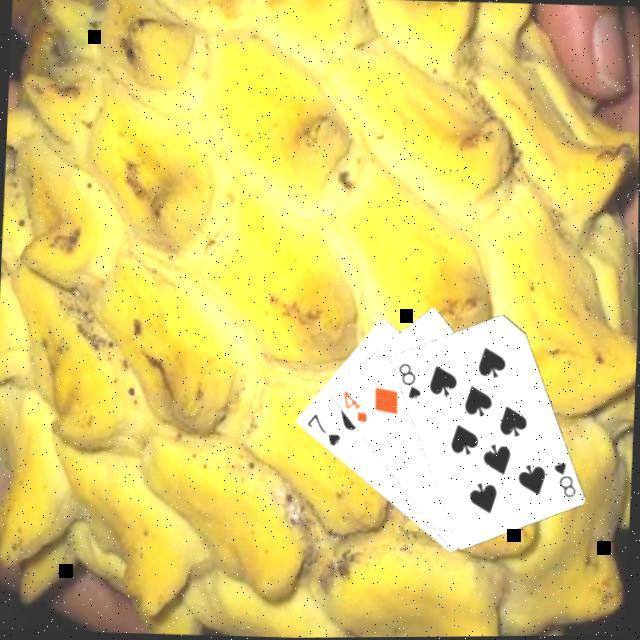4D: (337, 389, 369, 428)
7S: (300, 411, 342, 450)
8S: (547, 459, 578, 503), (392, 361, 423, 404)
